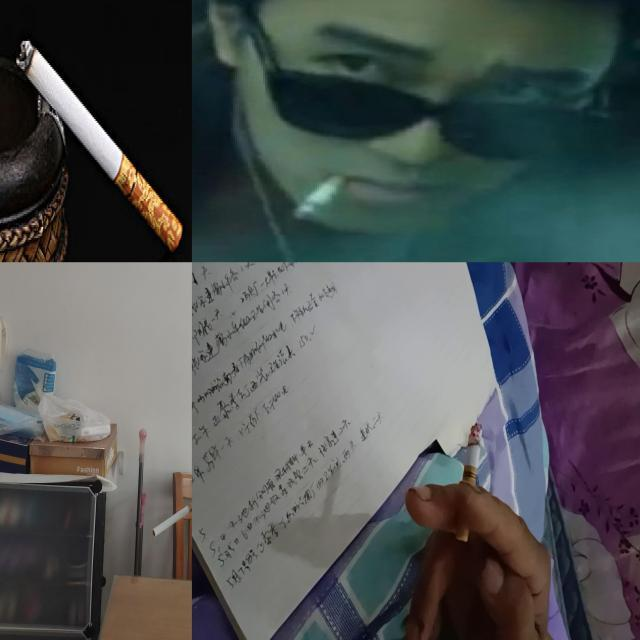smoking: (15, 39, 183, 252), (456, 423, 484, 543), (291, 172, 343, 218), (152, 497, 192, 538)
